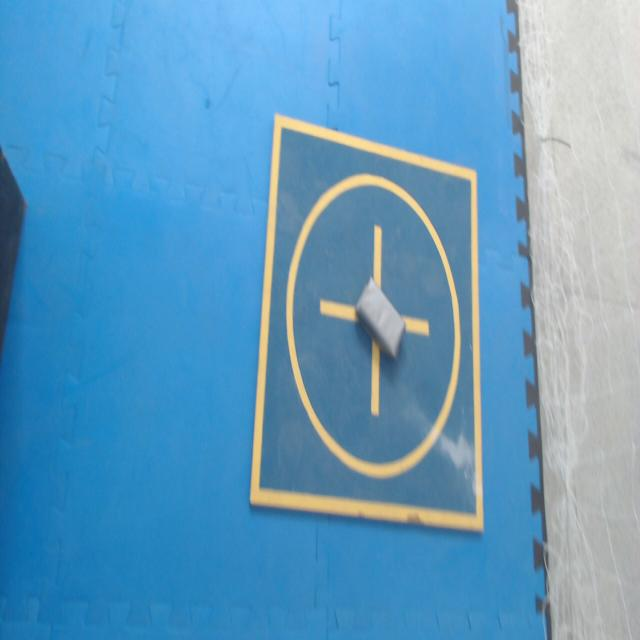esquerda: (356, 277, 406, 357)
